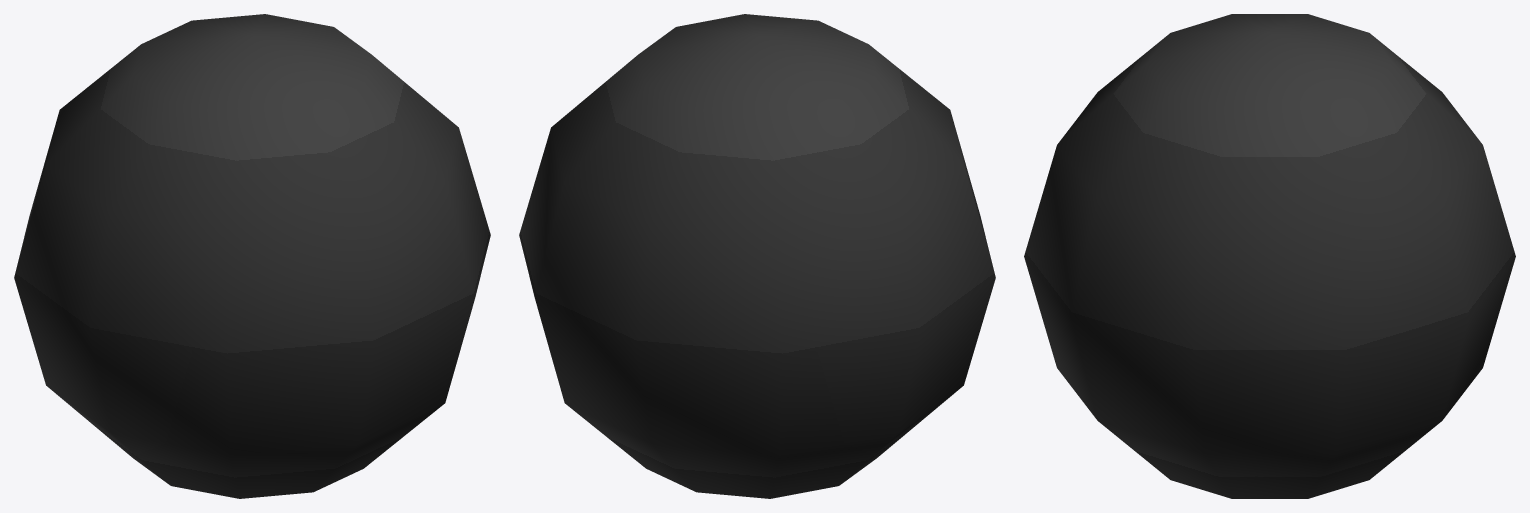
Rendered from bullet.fbx.
3 views of the same model, side by side, from view 1: azimuth 30°, elevation 25°; view 2: azimuth 150°, elevation 25°; view 3: azimuth 270°, elevation 25° (orthographic).
Parts seen in each view (by area): view 1: Sphere.002; view 2: Sphere.002; view 3: Sphere.002.
Part boxes in pixels (box(x1,y1,x2,y2)): Sphere.002: box(14, 14, 490, 498); Sphere.002: box(519, 14, 995, 498); Sphere.002: box(1024, 14, 1515, 498).
Bounding box in the file's own units: 64.49 × 67.8 × 67.8.
